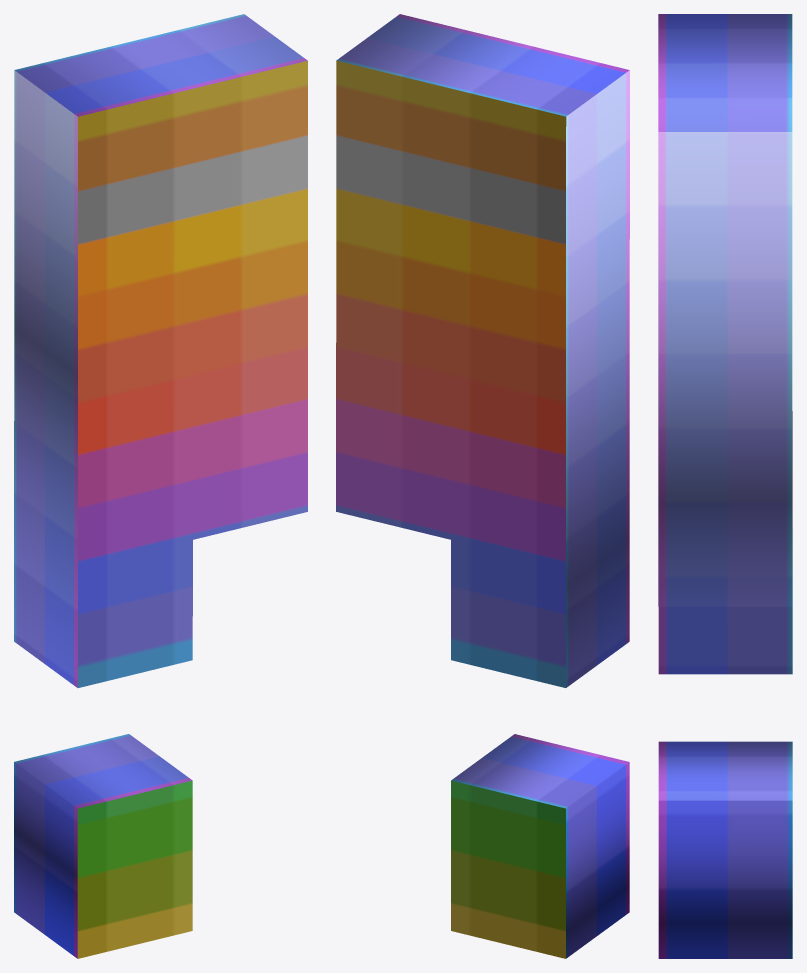
3 renders of one model, left to right at view 1: azimuth 30°, elevation 25°; view 2: azimuth 150°, elevation 25°; view 3: azimuth 270°, elevation 25°, orthographic. The views are drawn at different scales.
Parts seen in each view (by area): view 1: !; view 2: !; view 3: !.
Part boxes in pixels (x1=…): !: x1=14, y1=14, x2=307, y2=958; !: x1=336, y1=14, x2=629, y2=958; !: x1=658, y1=14, x2=792, y2=958.
Bounding box in the file's own units: 0.1667 × 0.5834 × 0.0803.
1 material, 1 textured.
